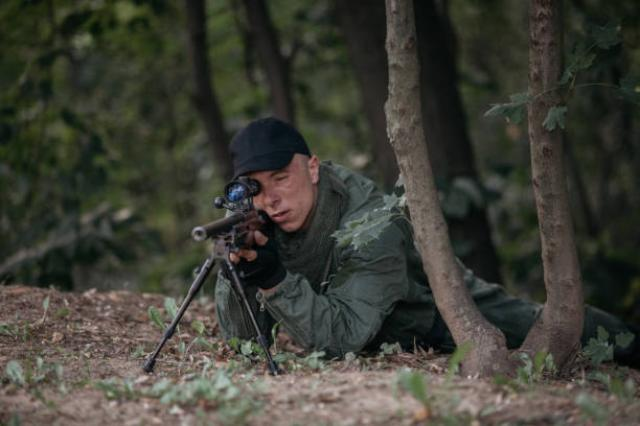other: (218, 125, 467, 353)
